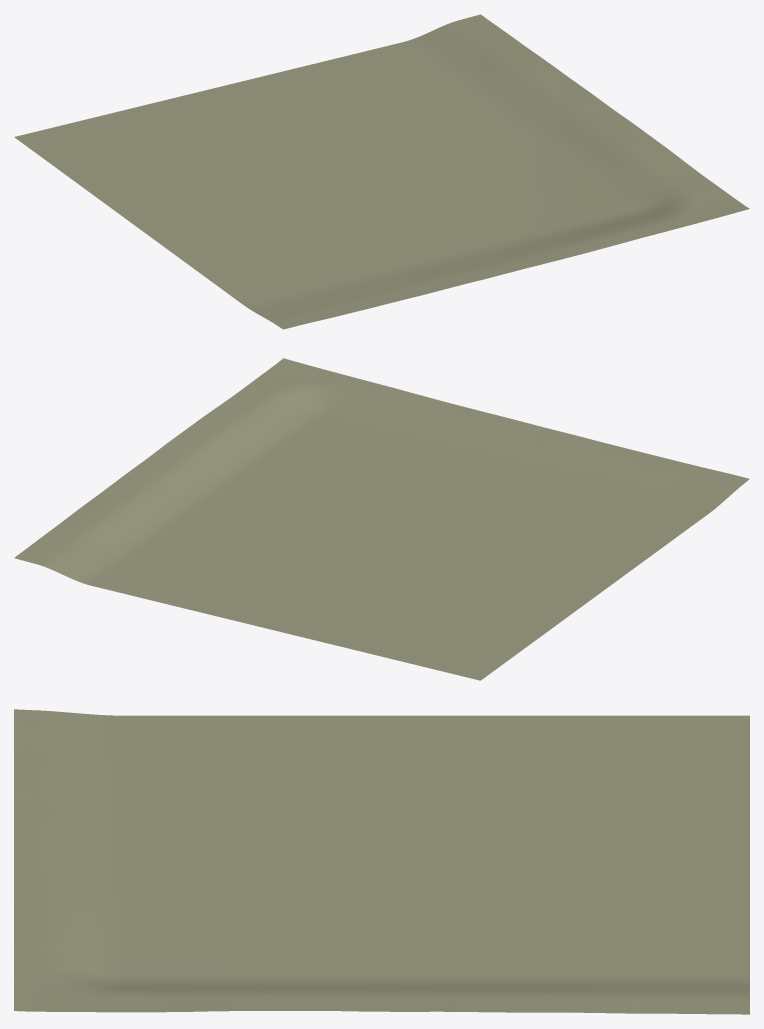
Rendered from SM_VB_CityTerrain_7_5.fbx.
The picture shows the model from 3 angles, top to bottom: view 1: azimuth 30°, elevation 25°; view 2: azimuth 150°, elevation 25°; view 3: azimuth 270°, elevation 25°; orthographic projection. The views are drawn at different scales.
Visible parts, largest first — view 1: SM_VB_CityTerrain_7_5; view 2: SM_VB_CityTerrain_7_5; view 3: SM_VB_CityTerrain_7_5.
Part boxes in pixels (x1,y1,x2,y2): SM_VB_CityTerrain_7_5: [14, 14, 749, 329]; SM_VB_CityTerrain_7_5: [14, 358, 749, 680]; SM_VB_CityTerrain_7_5: [14, 709, 749, 1014].
Size of the model in its own units: 600 by 14.16 by 600.
